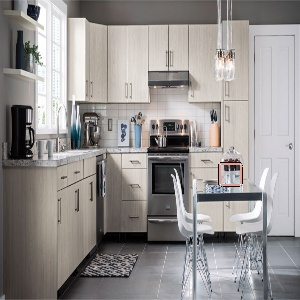square: (217, 161, 244, 188)
